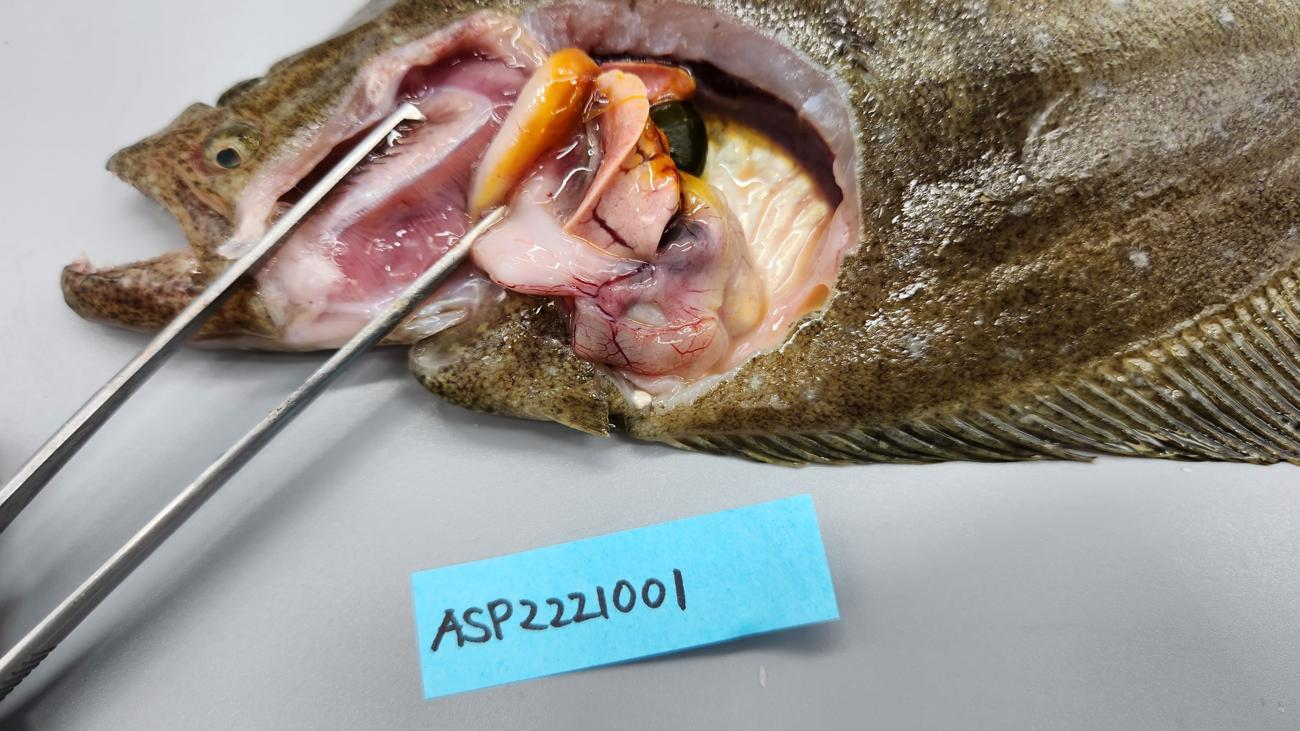SPSPE: (654, 191, 684, 255)
